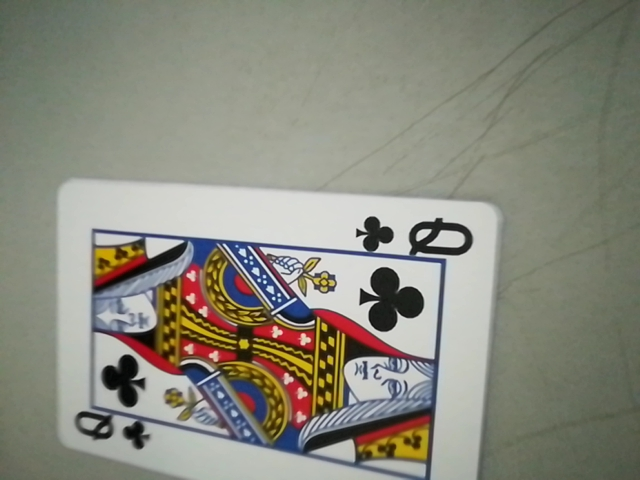mh q: (351, 210, 479, 260), (71, 407, 154, 456)
